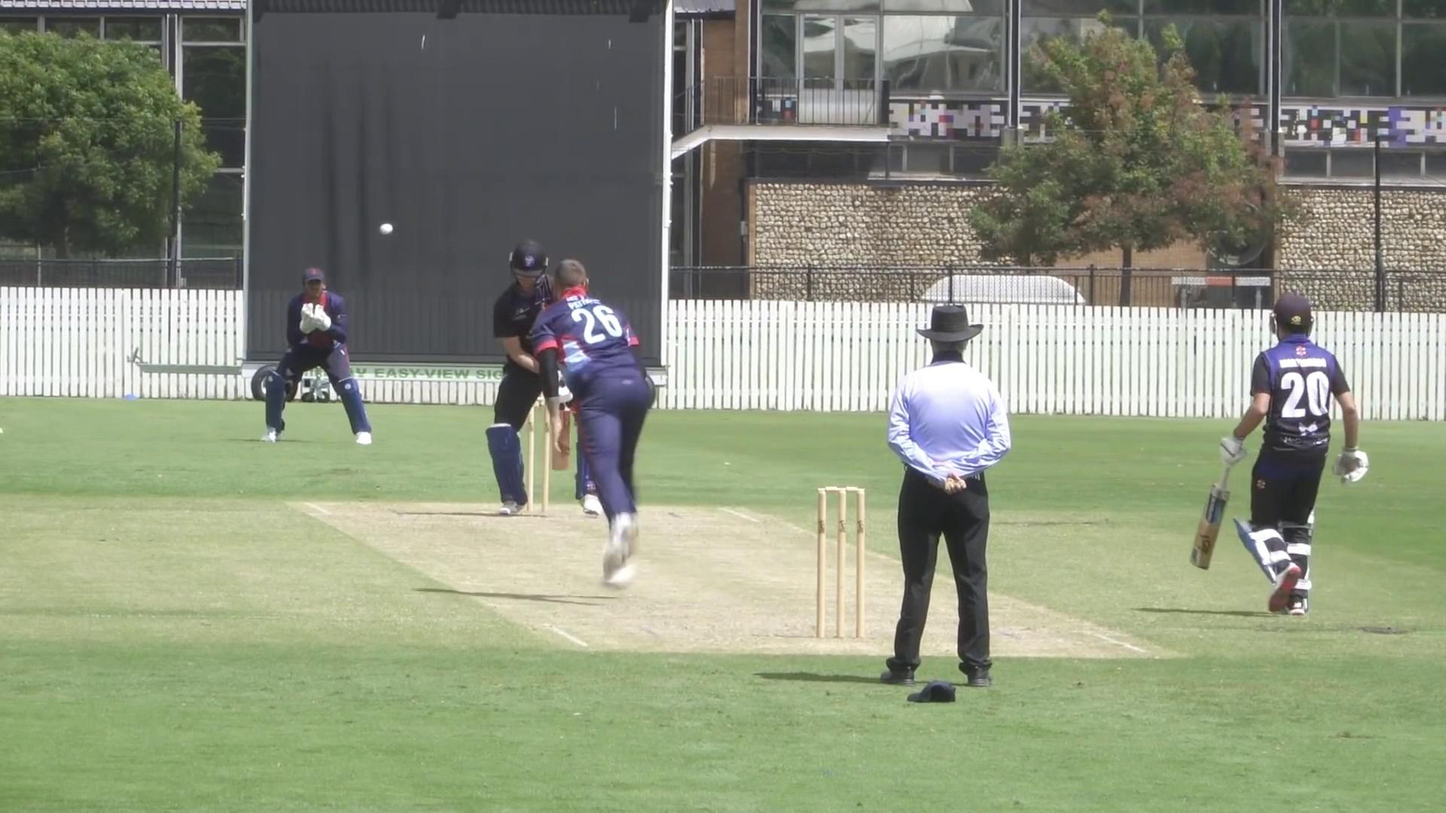ball: (375, 221, 399, 239)
